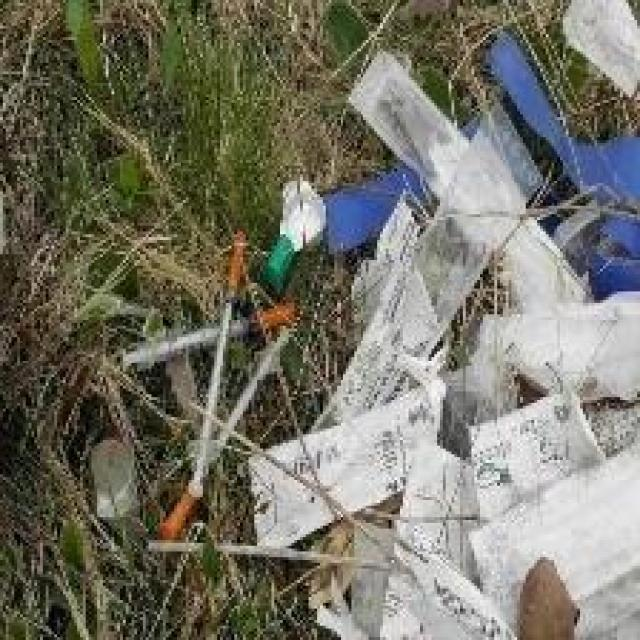syringe: (296, 132, 610, 617), (113, 248, 285, 545)
